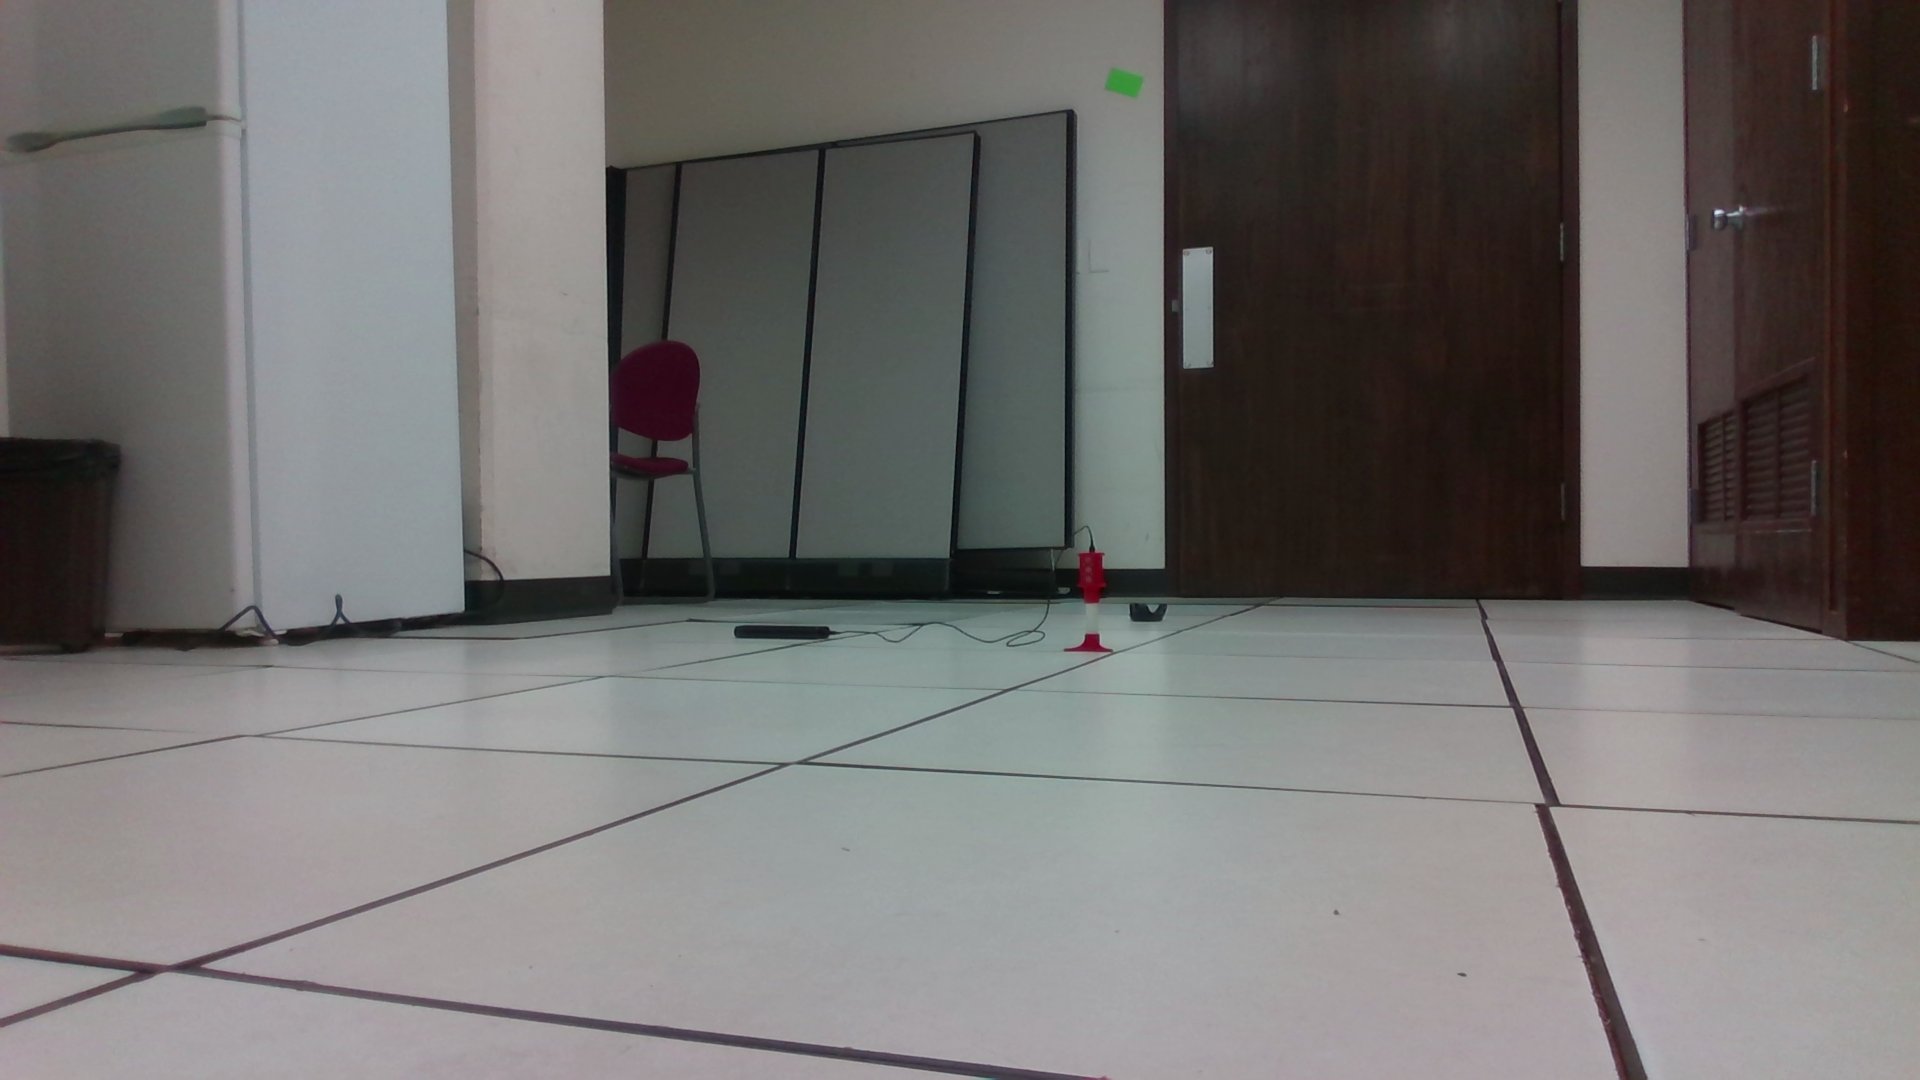stoplight: (1077, 553, 1106, 608)
